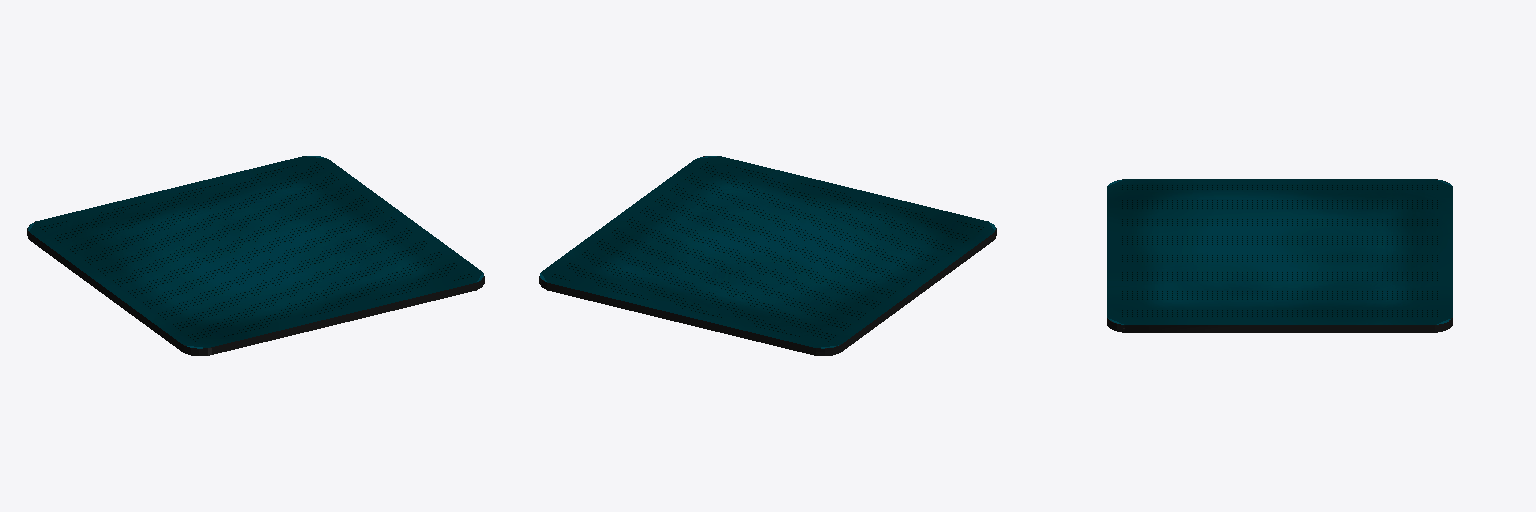
3 views of the same model, side by side, from view 1: azimuth 30°, elevation 25°; view 2: azimuth 150°, elevation 25°; view 3: azimuth 270°, elevation 25° (orthographic).
Parts seen in each view (by area): view 1: Cube.001; view 2: Cube.001; view 3: Cube.001.
Boxes of the visible parts, x1=… form: Cube.001: x1=27, y1=156, x2=484, y2=355; Cube.001: x1=539, y1=156, x2=996, y2=355; Cube.001: x1=1107, y1=179, x2=1452, y2=332.
Size of the model in its own units: 4 by 0.1 by 4.
Materials: 1 (1 with a texture image).